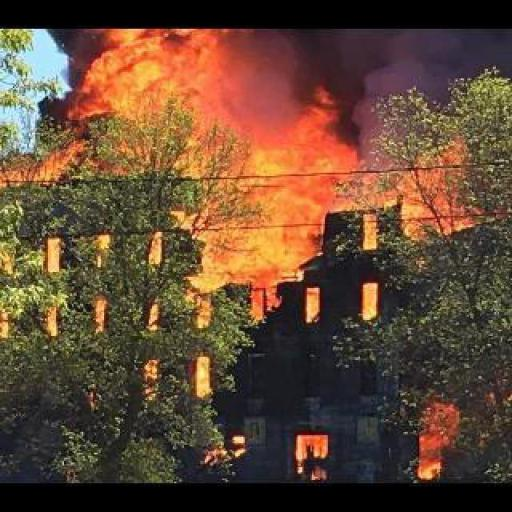smoke: (21, 38, 483, 378)
